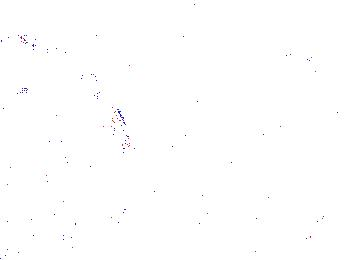X-ray fish: (239, 52, 262, 71), (274, 50, 290, 74)
glassfish: (75, 68, 138, 162)
redtail glassfish: (15, 35, 58, 67)
